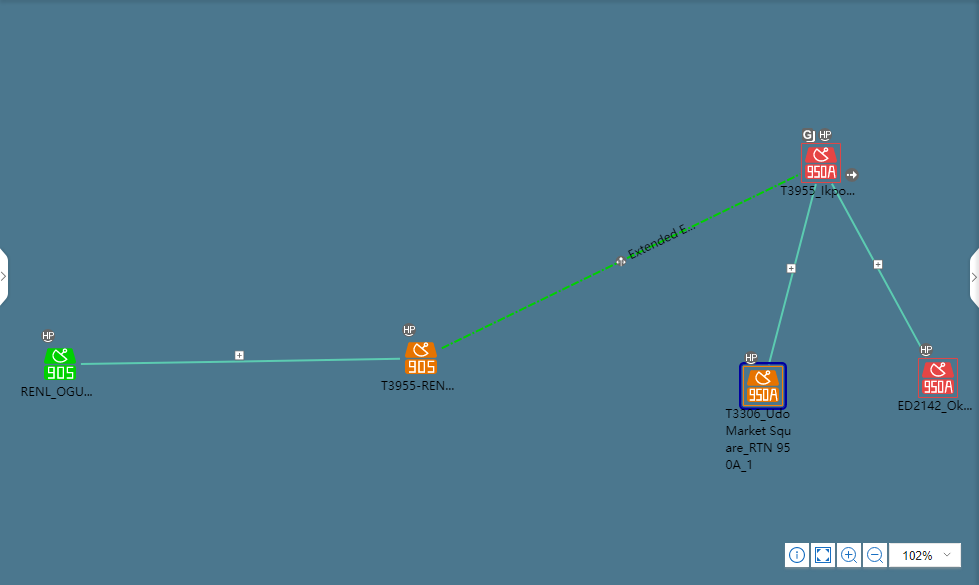Link_Blue: (829, 185, 925, 348), (768, 192, 812, 355), (76, 357, 370, 364)
Link_Green: (444, 173, 795, 346)
RTN_Green: (46, 351, 81, 380)
RTN_Orange: (743, 369, 779, 404), (407, 345, 442, 380)
RTN_Red: (805, 143, 840, 184), (921, 363, 956, 398)
